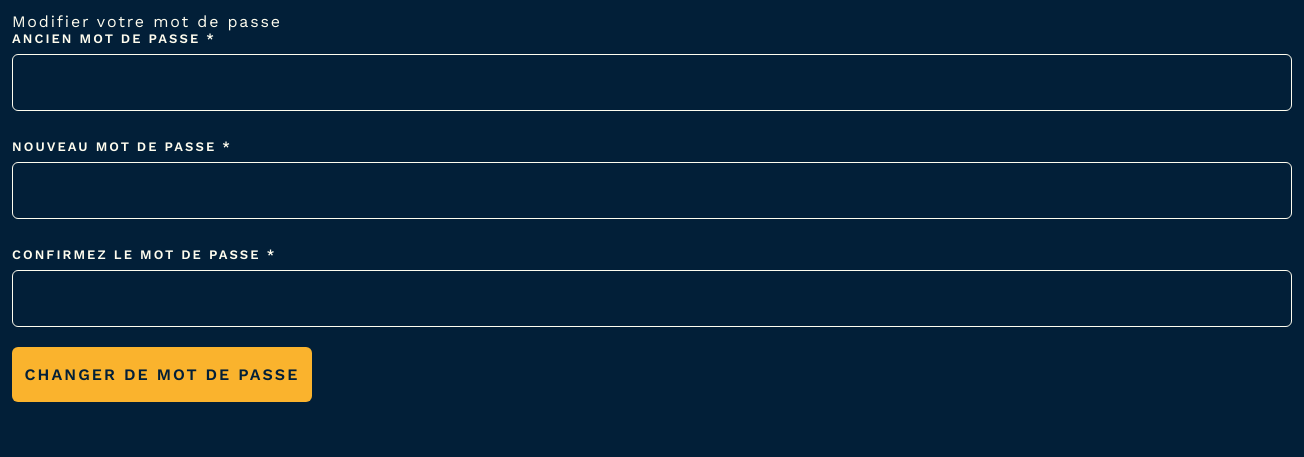
it: UpdateProfileForm component tests › should set new password error if new password are not matching
This screenshot has width=1304, height=457.
In the password field labelled "Ancien mot de passe *": (652, 82) [12,54,1292,111], type "awesomePassword"
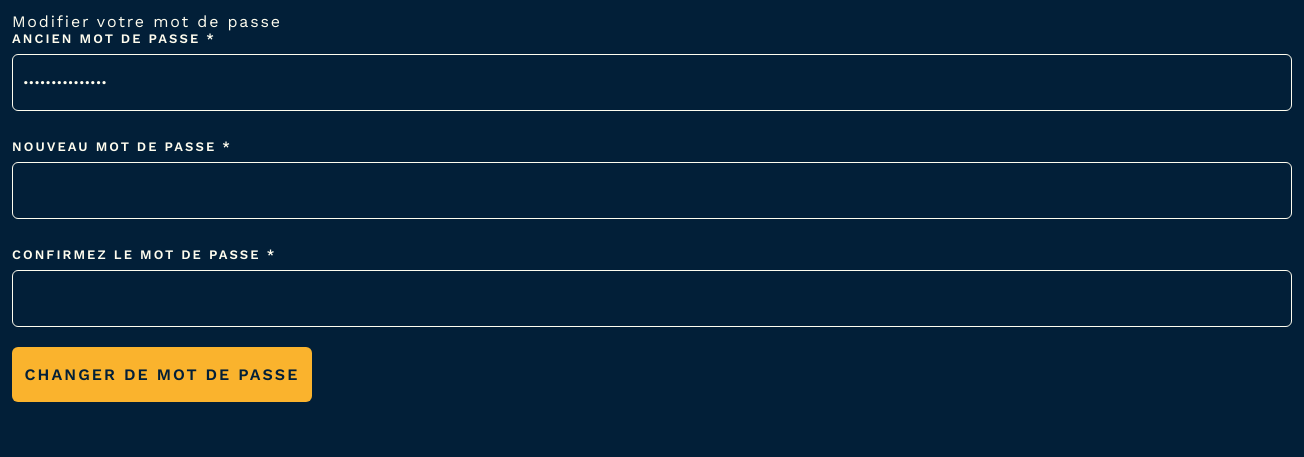
In the password field labelled "Nouveau mot de passe *": (652, 190) [12,162,1292,219], type "newPassword"
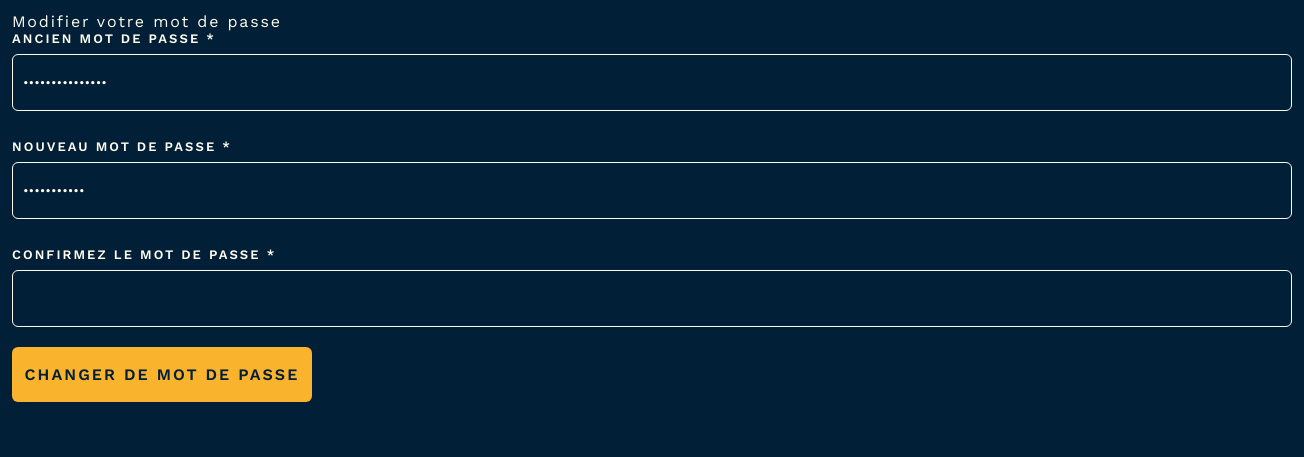
In the password field labelled "Confirmez le mot de passe *": (652, 298) [12,270,1292,327], type "newerPass"
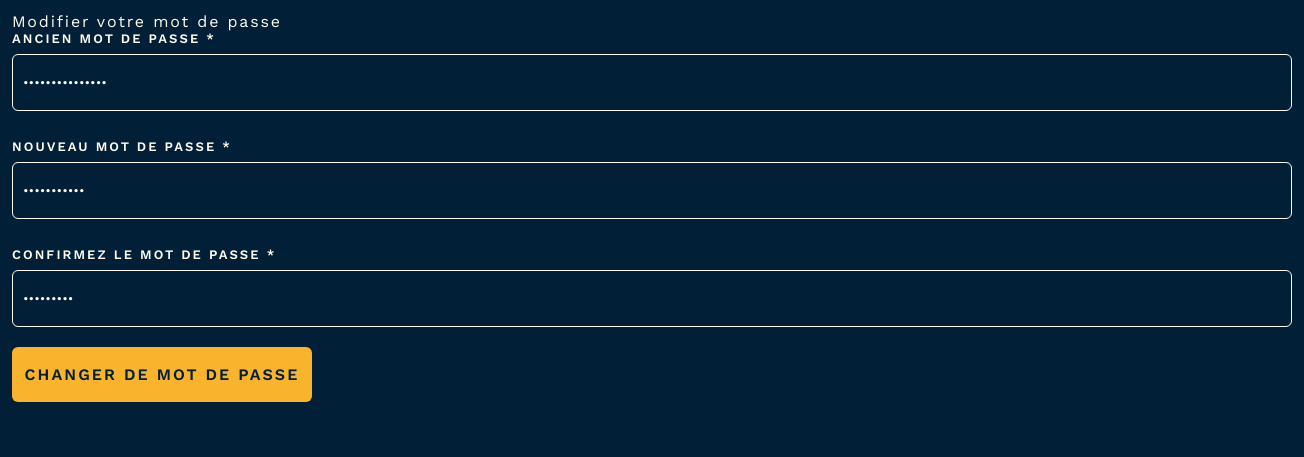
Submit the form from the button "Changer de mot de passe", box [12,347,312,402]
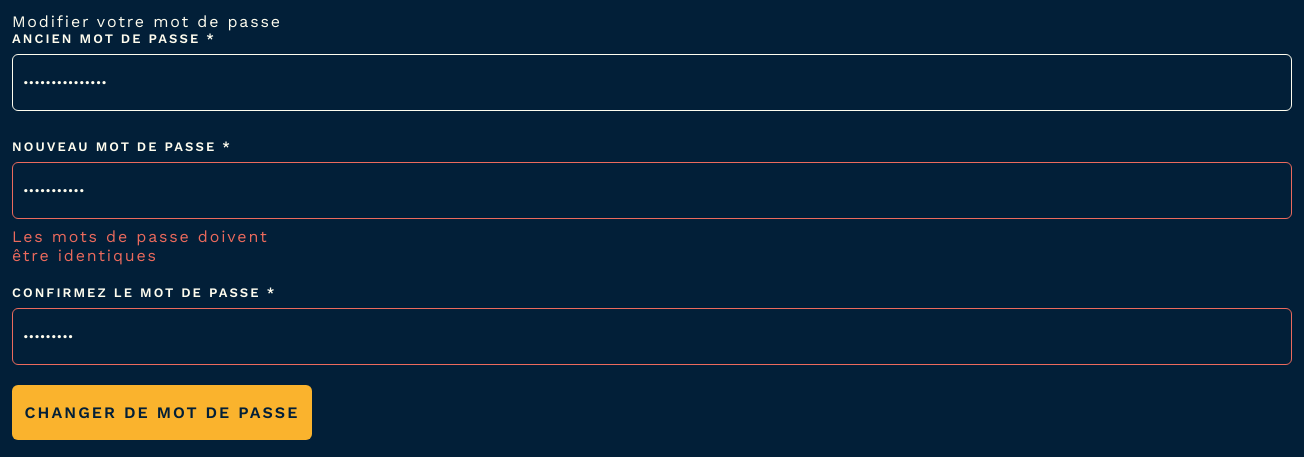
Now the text "Les mots de passe doivent être identiques" is shown, box [12,227,312,265]
